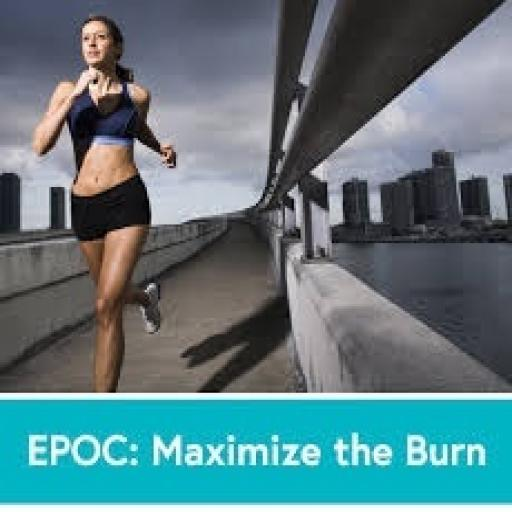running: (29, 12, 180, 392)
